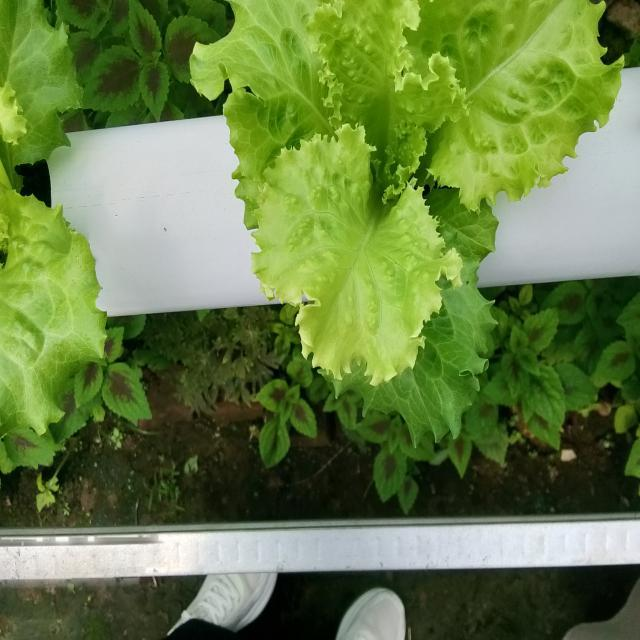Baby: (190, 0, 623, 384)
